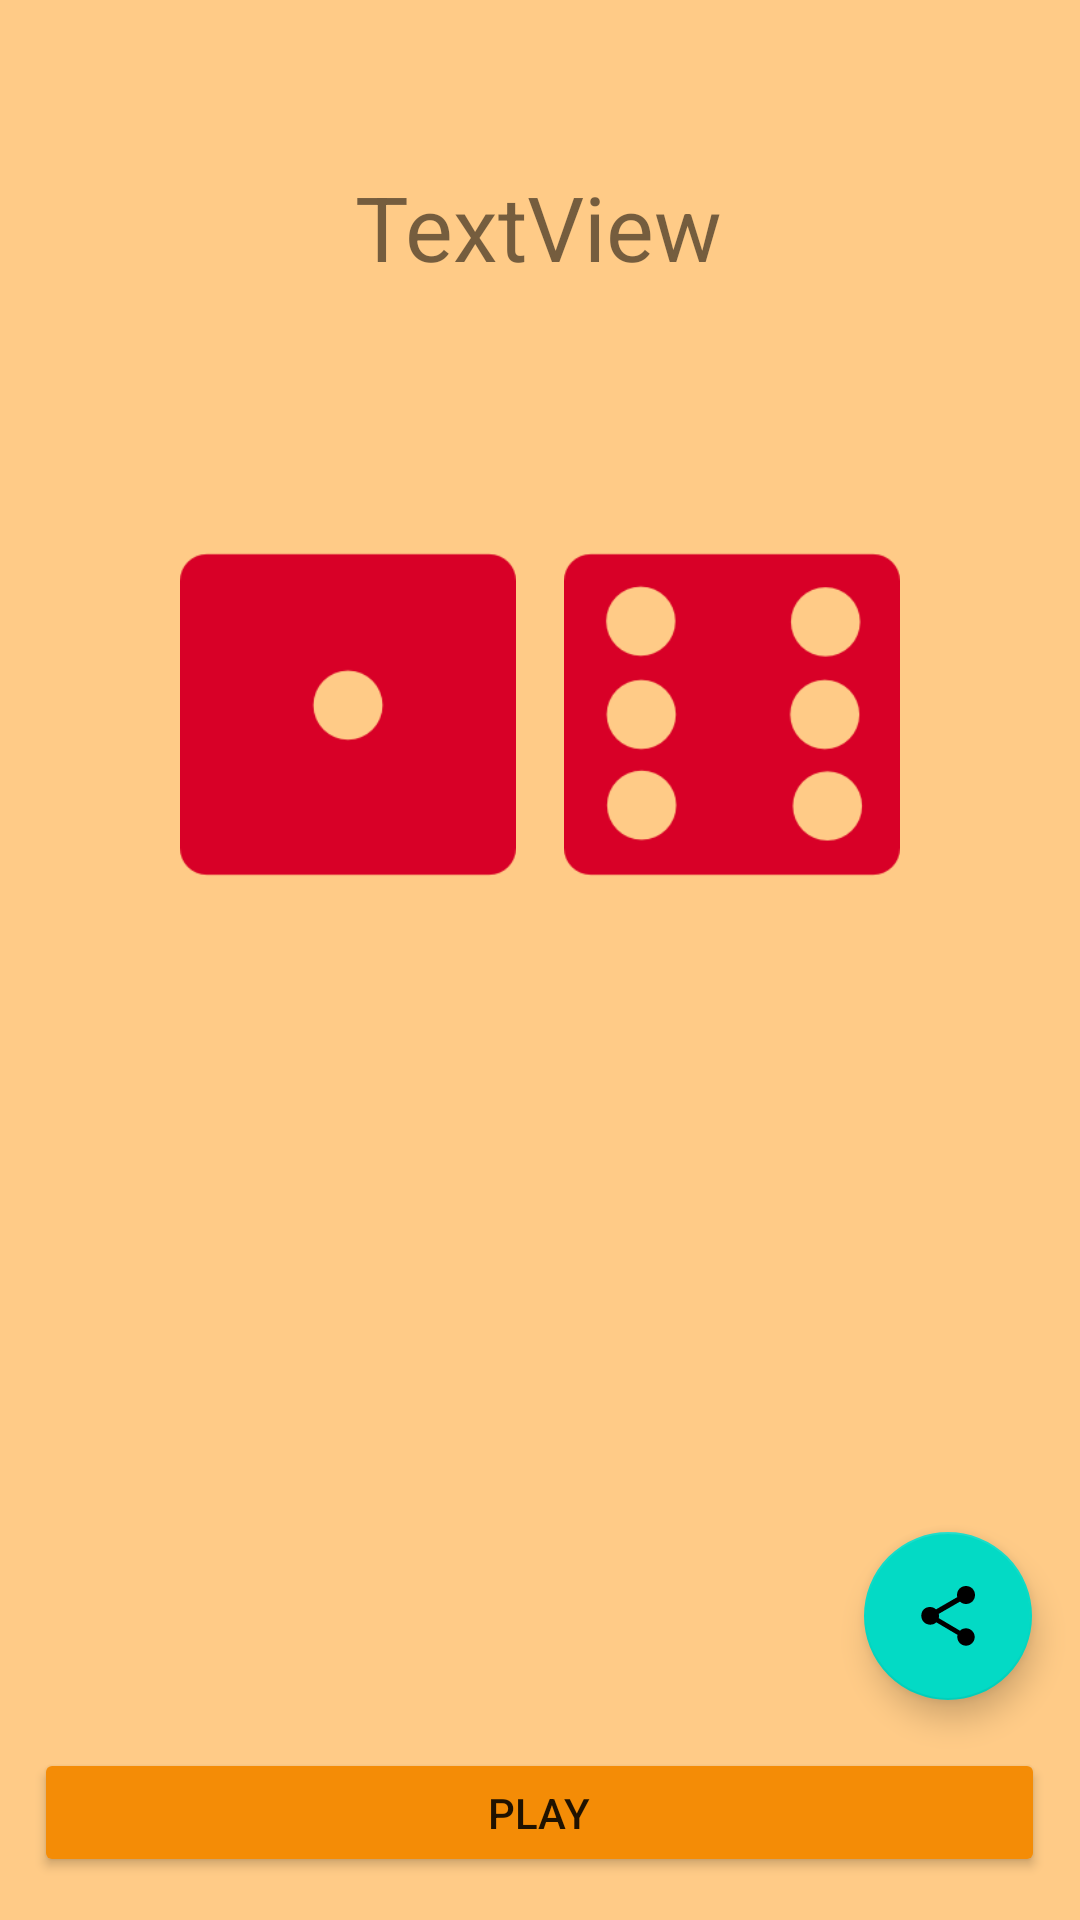

Where icons sit on this 1080 × 1920 app screen, as (x1, y1, x2, y2):
dice: (180, 553, 516, 876), (564, 553, 900, 876)
